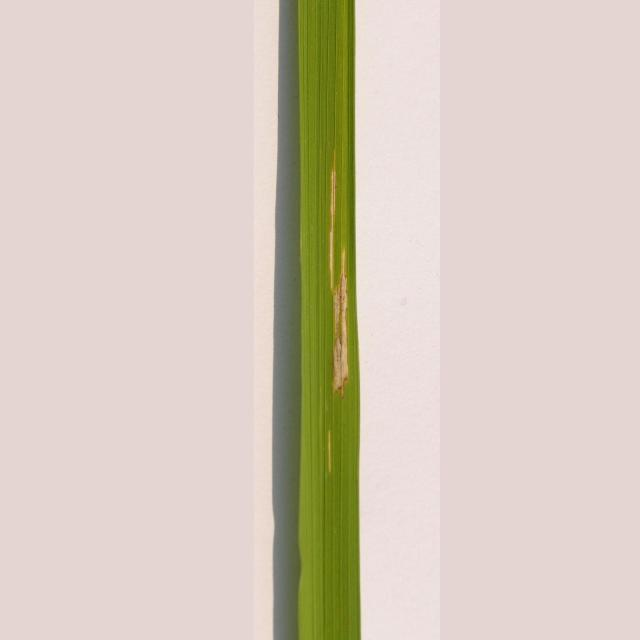leaf blight: (321, 163, 362, 419)
